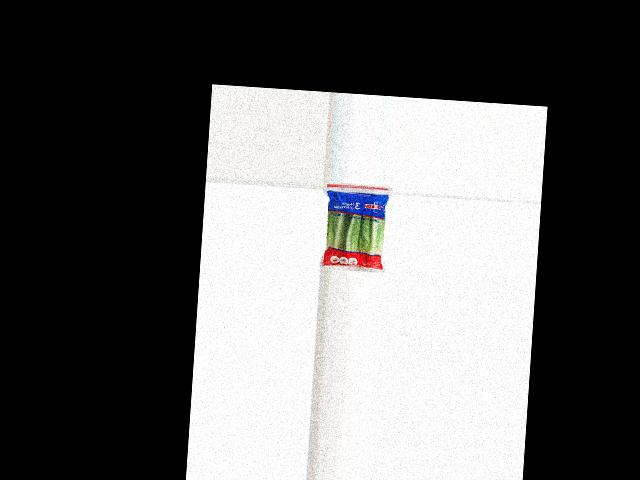lettuce: (320, 188, 389, 273)
